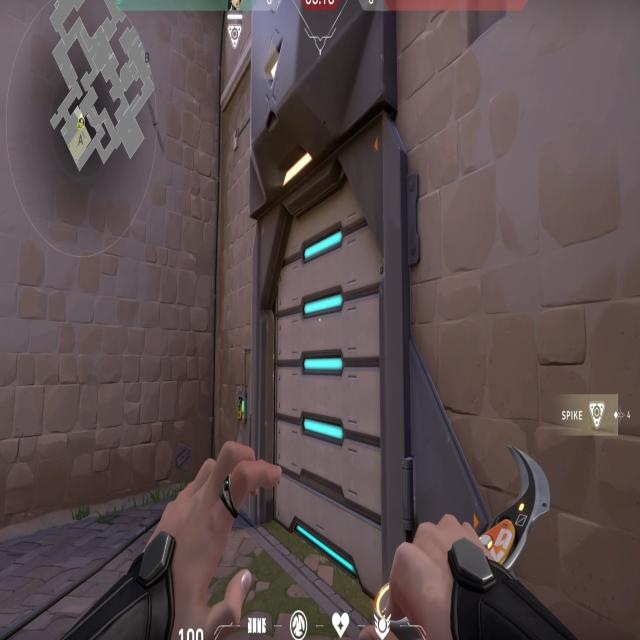A_Door: (239, 127, 430, 635)
